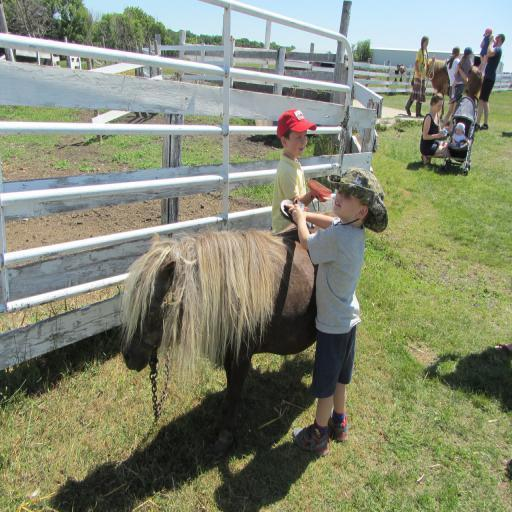horse: (120, 230, 316, 451), (410, 58, 484, 118)
